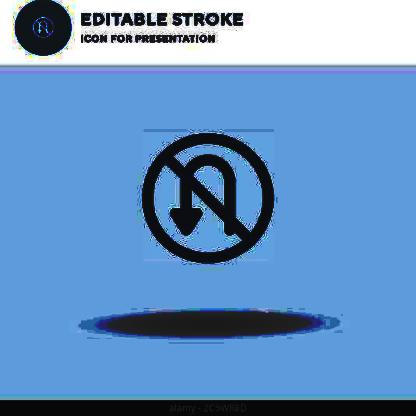No U-turn: (136, 129, 281, 269)
